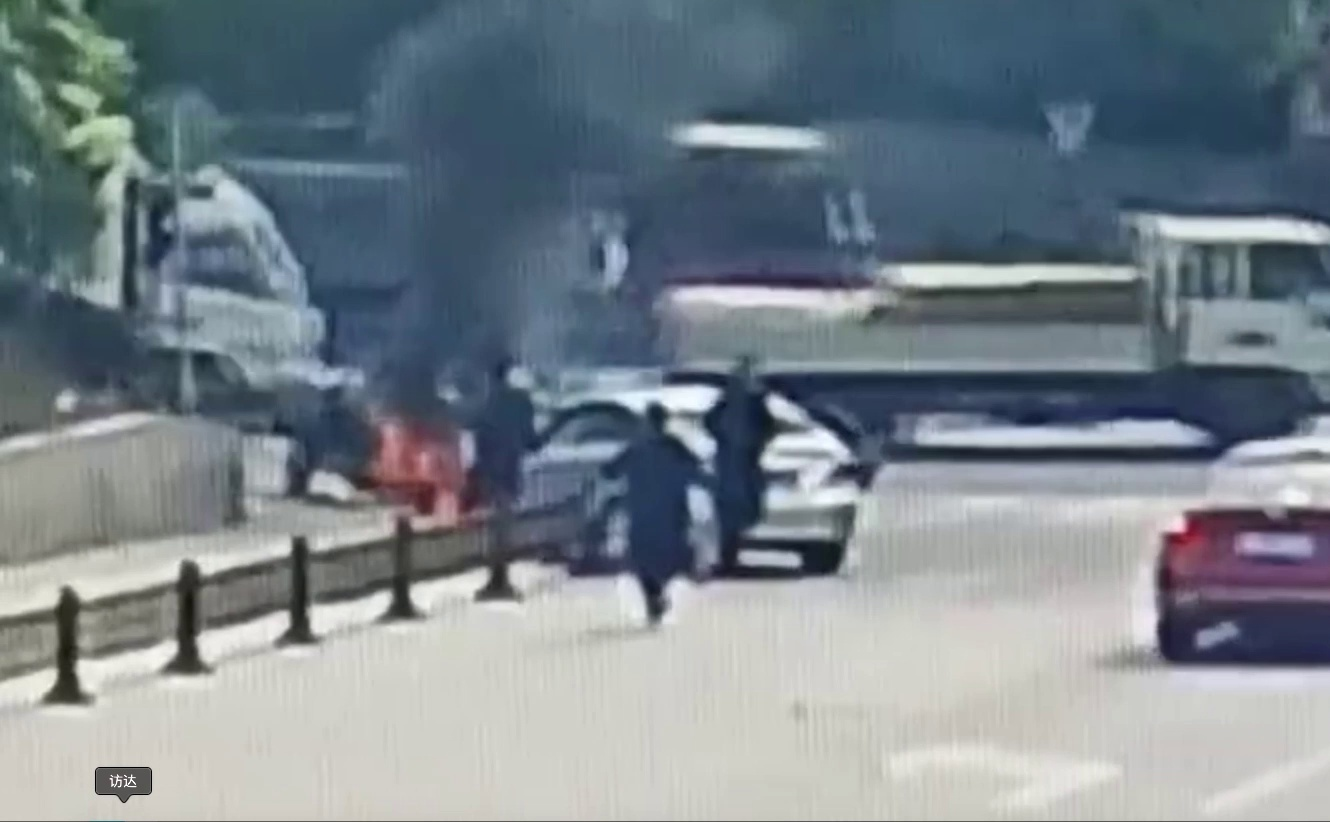smoke: (359, 33, 524, 479)
